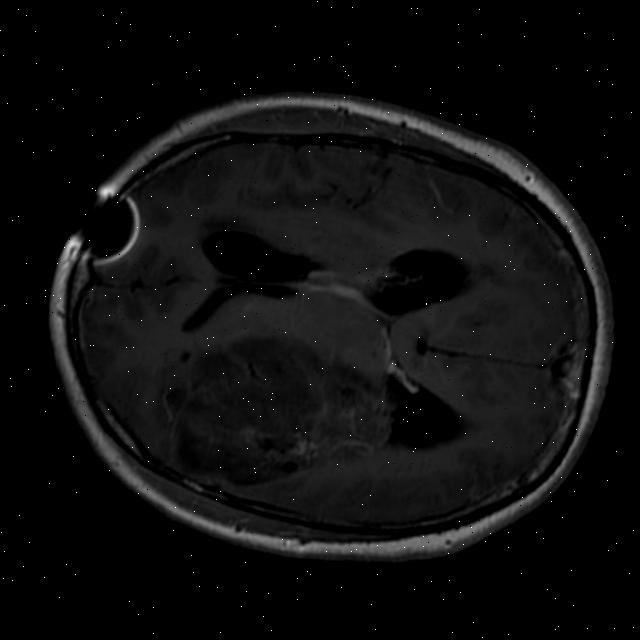Glioma: (146, 308, 410, 515)
